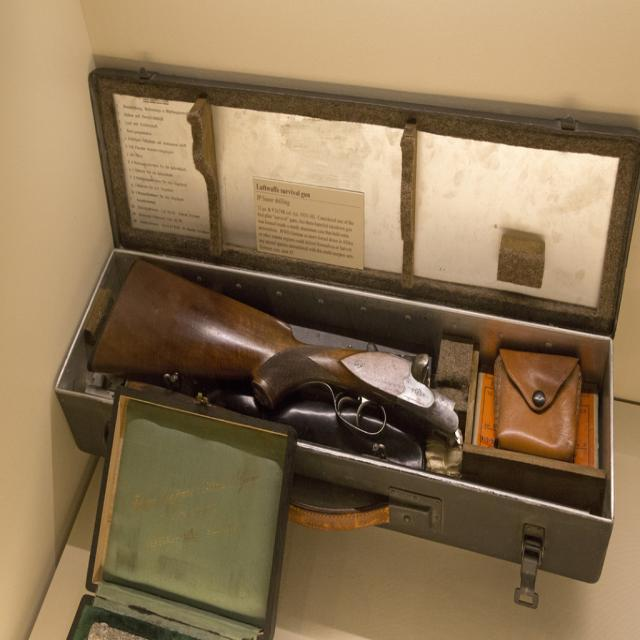weapon: (89, 260, 464, 470)
